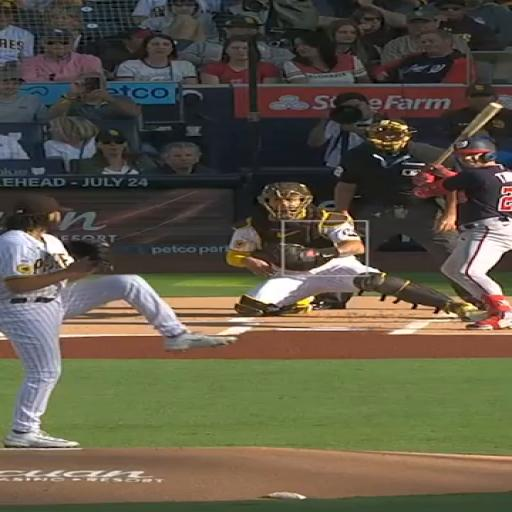bat: (434, 103, 503, 164)
